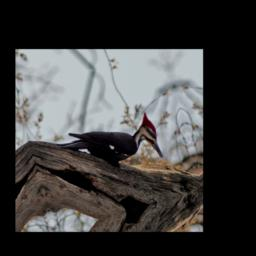Woodpecker: (55, 108, 164, 186)
